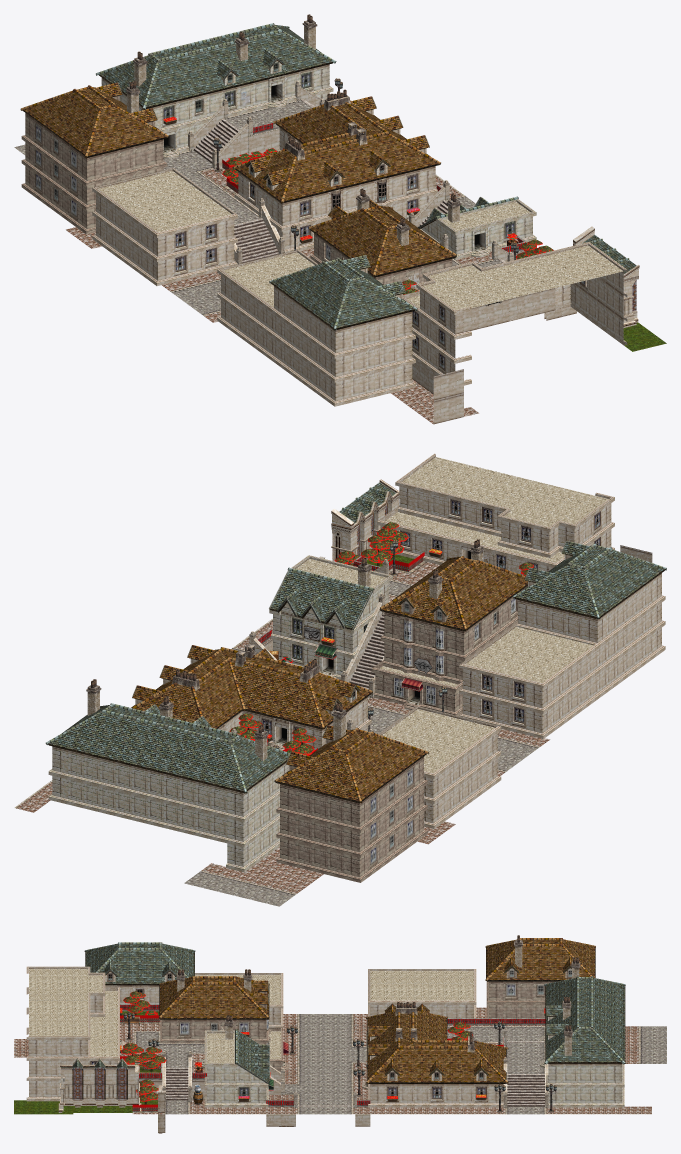
Rendered from BoseCity2.obj.
The picture shows the model from 3 angles, top to bottom: view 1: azimuth 30°, elevation 25°; view 2: azimuth 150°, elevation 25°; view 3: azimuth 270°, elevation 25°; orthographic projection. The views are drawn at different scales.
Visible parts, largest first — view 1: Object.004; view 2: Object.004; view 3: Object.004.
Part boxes in pixels (x1,y1,x2,y2): Object.004: [14, 14, 666, 424]; Object.004: [14, 453, 666, 906]; Object.004: [14, 935, 666, 1133].
Bounding box in the file's own units: 40.5 × 16.25 × 88.
Materials: 21 (21 with a texture image).
